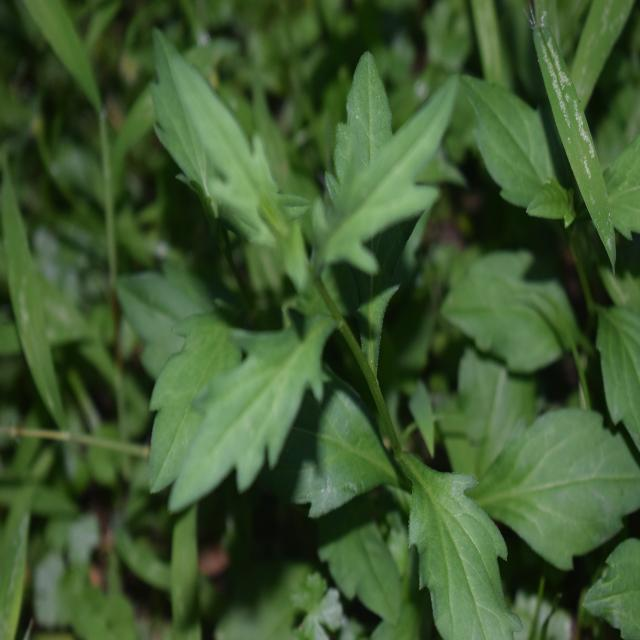Indian aster: (199, 90, 587, 610)
